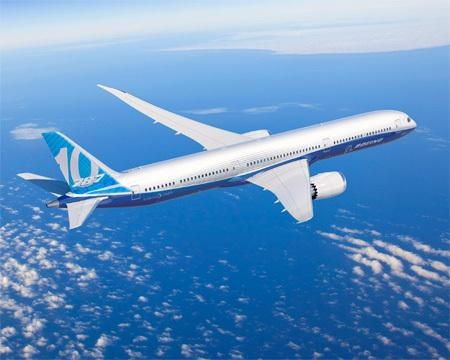airplane: (14, 83, 422, 240)
